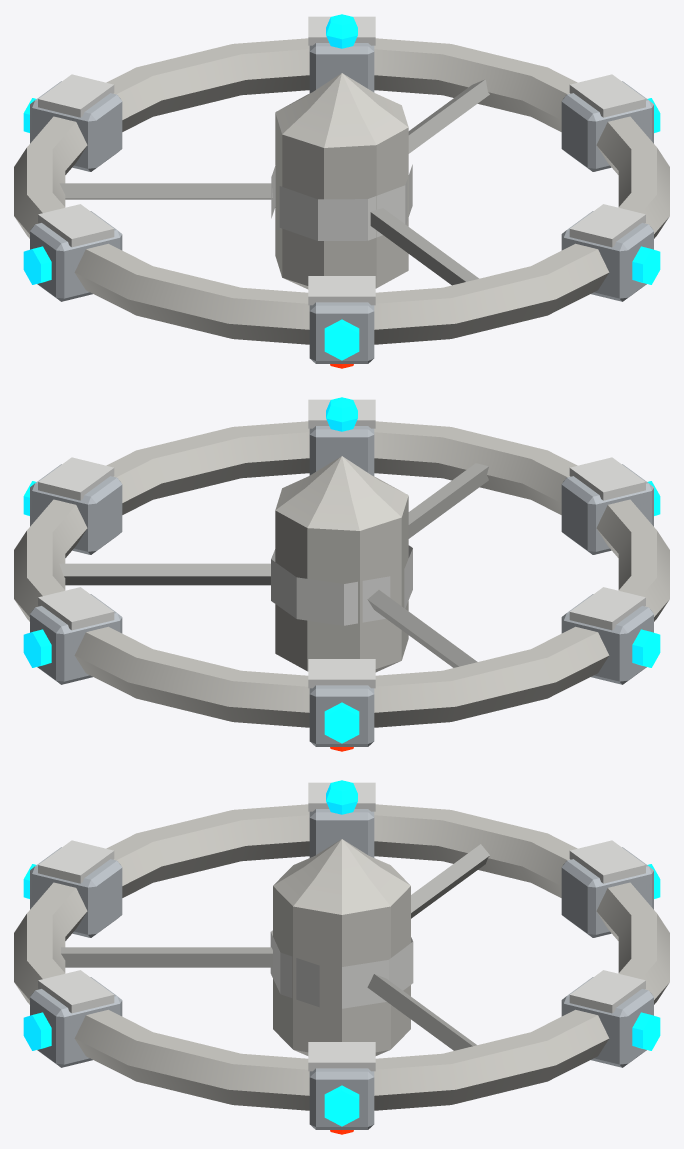
Rendered from satellite_b.glb.
3 views of the same model, one above another, from view 1: azimuth 30°, elevation 25°; view 2: azimuth 150°, elevation 25°; view 3: azimuth 270°, elevation 25° (orthographic).
Parts seen in each view (by area): view 1: sat_b; view 2: sat_b; view 3: sat_b.
Part boxes in pixels (bbox=[...]): sat_b: bbox=[14, 14, 669, 368]; sat_b: bbox=[14, 397, 669, 751]; sat_b: bbox=[14, 780, 669, 1134].
Bounding box in the file's own units: 2 × 1.09 × 1.83.
